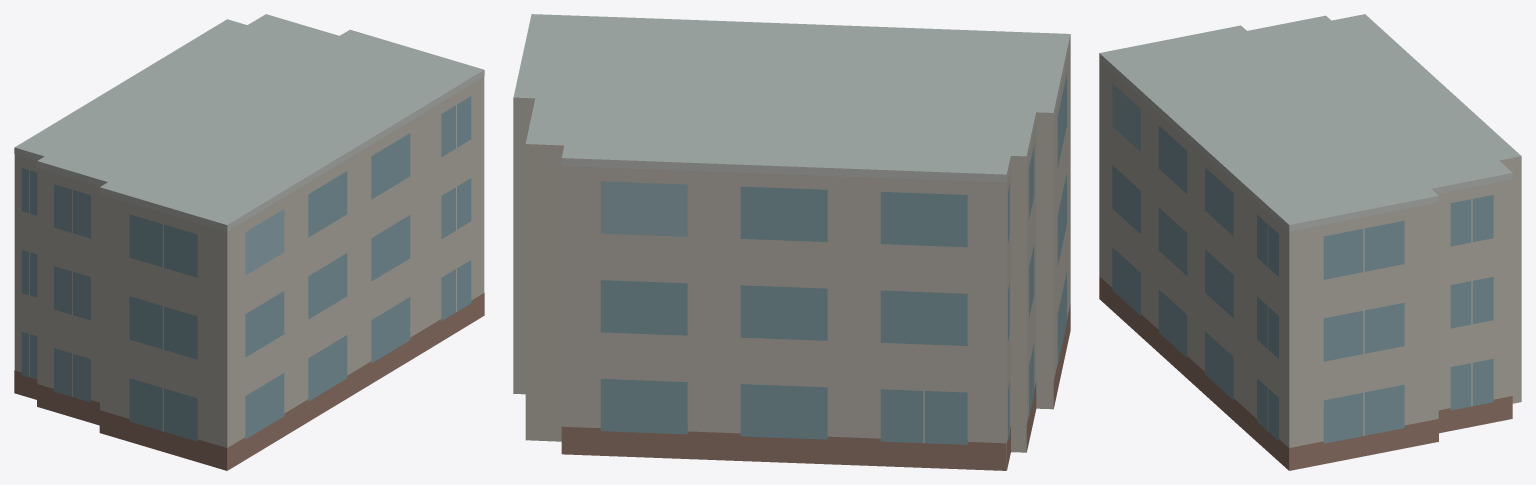
File: survey-upis-32704783.glb
3 renders of one model, left to right at view 1: azimuth 30°, elevation 25°; view 2: azimuth 150°, elevation 25°; view 3: azimuth 270°, elevation 25°, orthographic. The views are drawn at different scales.
Visible parts, largest first — view 1: survey-upis-32704783.tmp; view 2: survey-upis-32704783.tmp; view 3: survey-upis-32704783.tmp.
Boxes of the visible parts, bbox=[...] form: survey-upis-32704783.tmp: bbox=[14, 14, 484, 470]; survey-upis-32704783.tmp: bbox=[513, 14, 1070, 470]; survey-upis-32704783.tmp: bbox=[1099, 14, 1521, 470].
Size of the model in its own units: 16.84 by 9.15 by 14.25.
